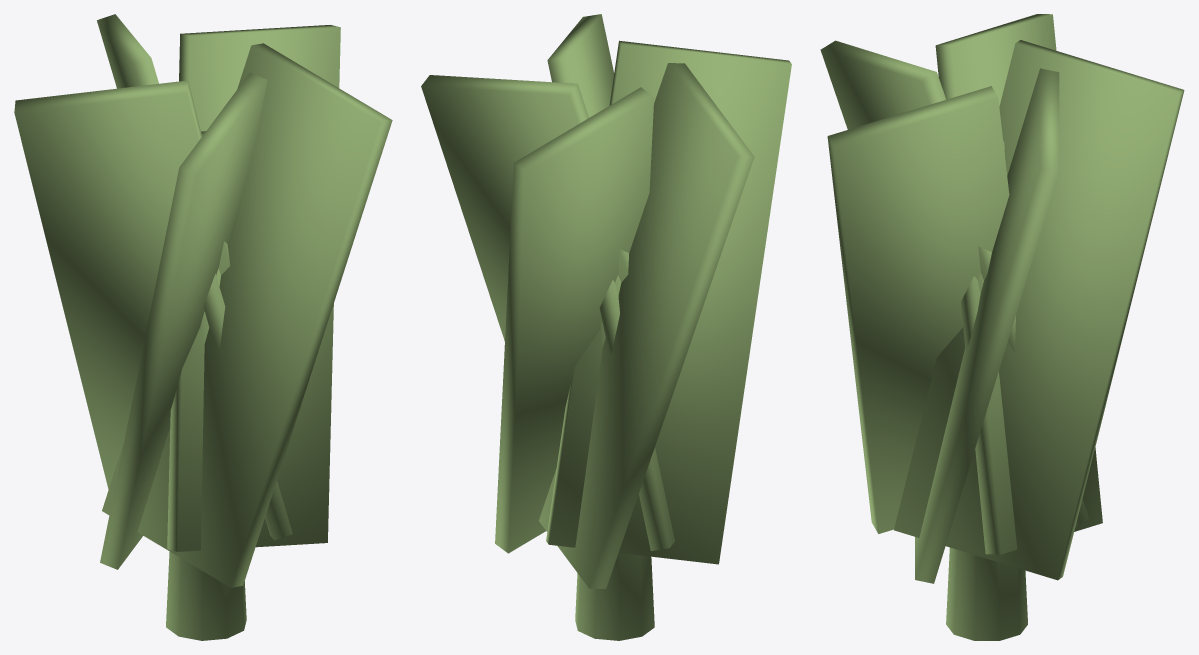
Rendered from SM_AF_Foliage_Broadleaf.glb.
The picture shows the model from 3 angles, left to right: view 1: azimuth 30°, elevation 25°; view 2: azimuth 150°, elevation 25°; view 3: azimuth 270°, elevation 25°; orthographic projection.
Parts seen in each view (by area): view 1: SM_AF_Foliage_Broadleaf; view 2: SM_AF_Foliage_Broadleaf; view 3: SM_AF_Foliage_Broadleaf.
Part boxes in pixels (x1=…): SM_AF_Foliage_Broadleaf: x1=14, y1=14, x2=392, y2=640; SM_AF_Foliage_Broadleaf: x1=421, y1=14, x2=791, y2=640; SM_AF_Foliage_Broadleaf: x1=820, y1=14, x2=1184, y2=640.
Size of the model in its own units: 0.6876 by 1.13 by 0.665.
